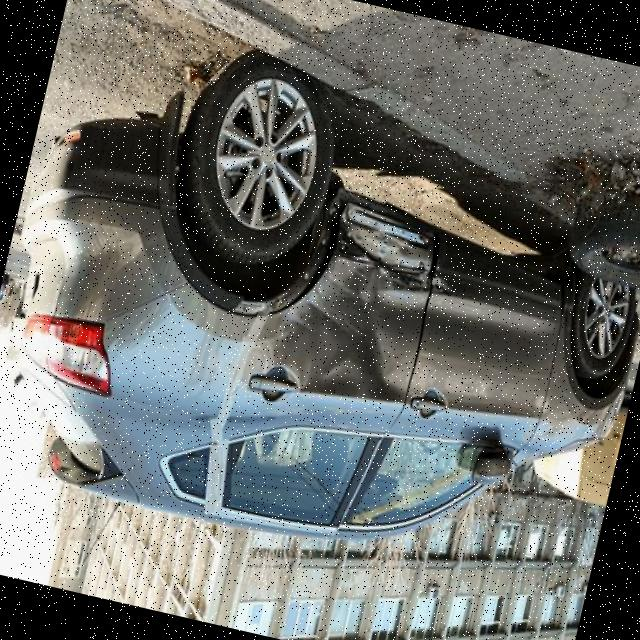Dent: (238, 182, 448, 430)
